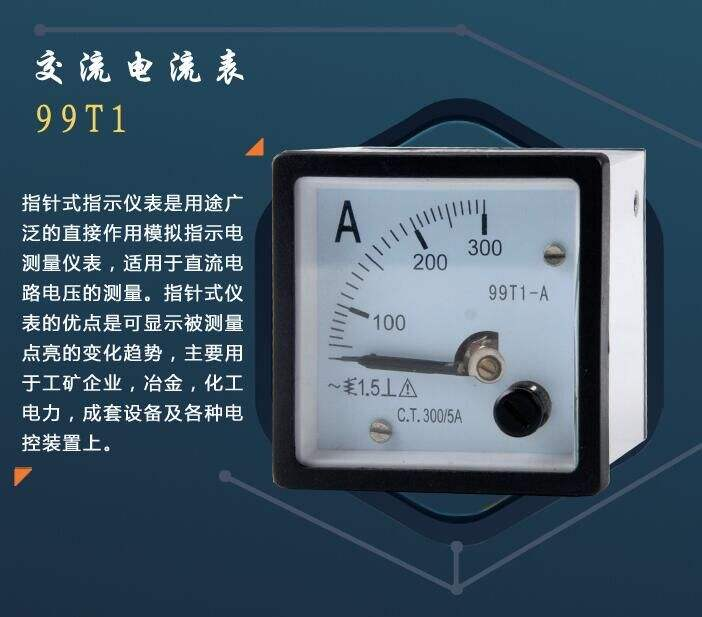pointer: (293, 176, 577, 471)
